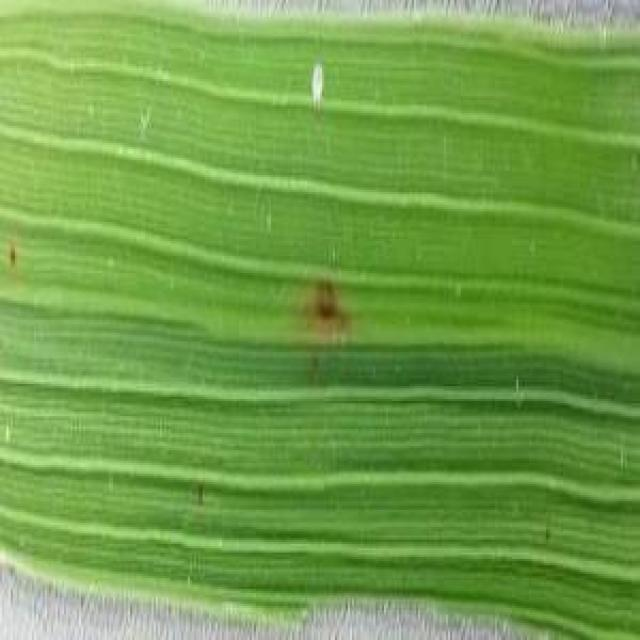Brown_Spot: (290, 276, 368, 336), (0, 234, 33, 276)
